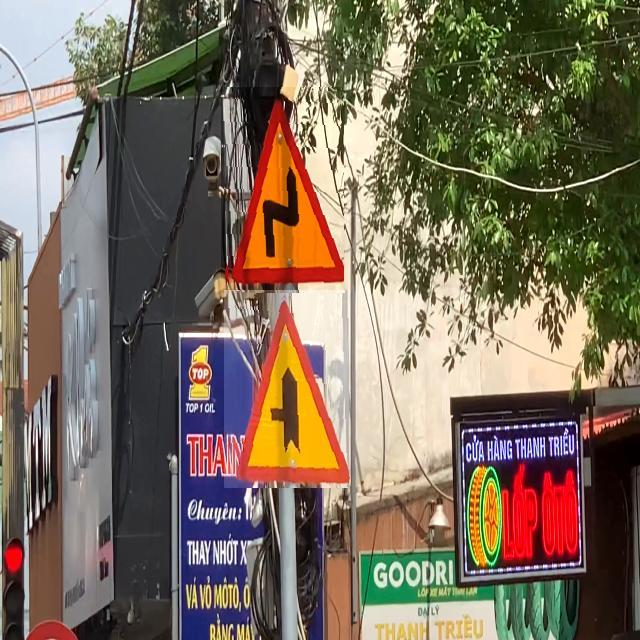W-202b: (222, 87, 346, 293)
W-207c: (224, 290, 349, 488)
